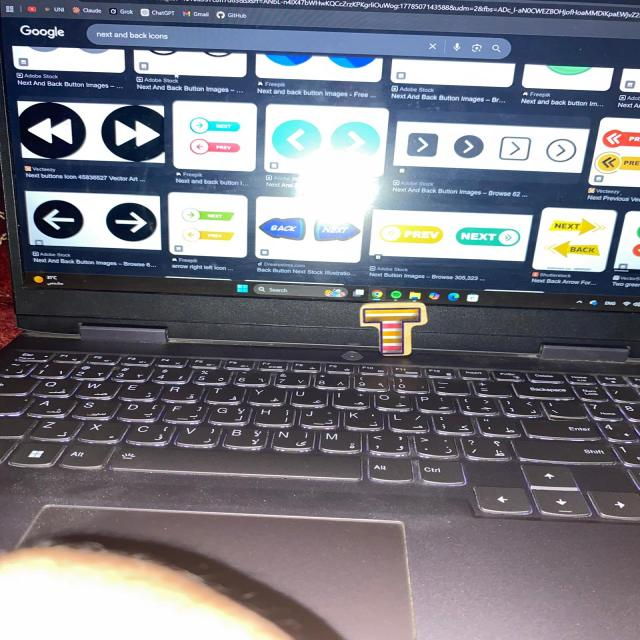T: (360, 302, 427, 355)
